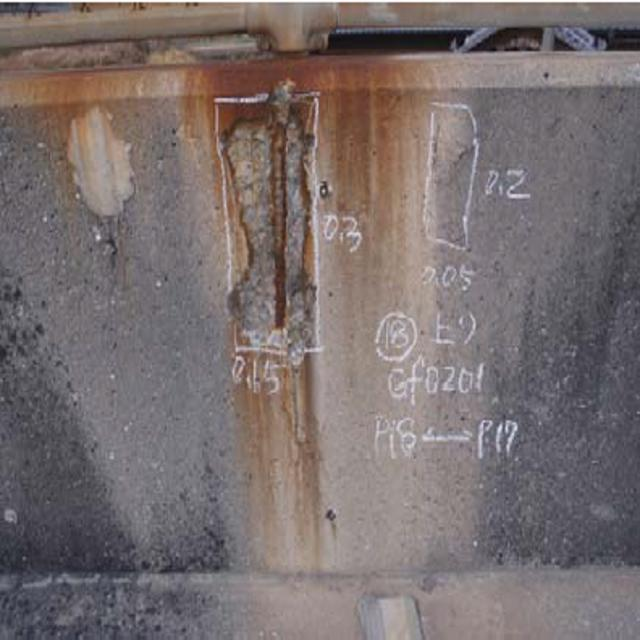spalling: (213, 90, 338, 361), (400, 102, 489, 247)
